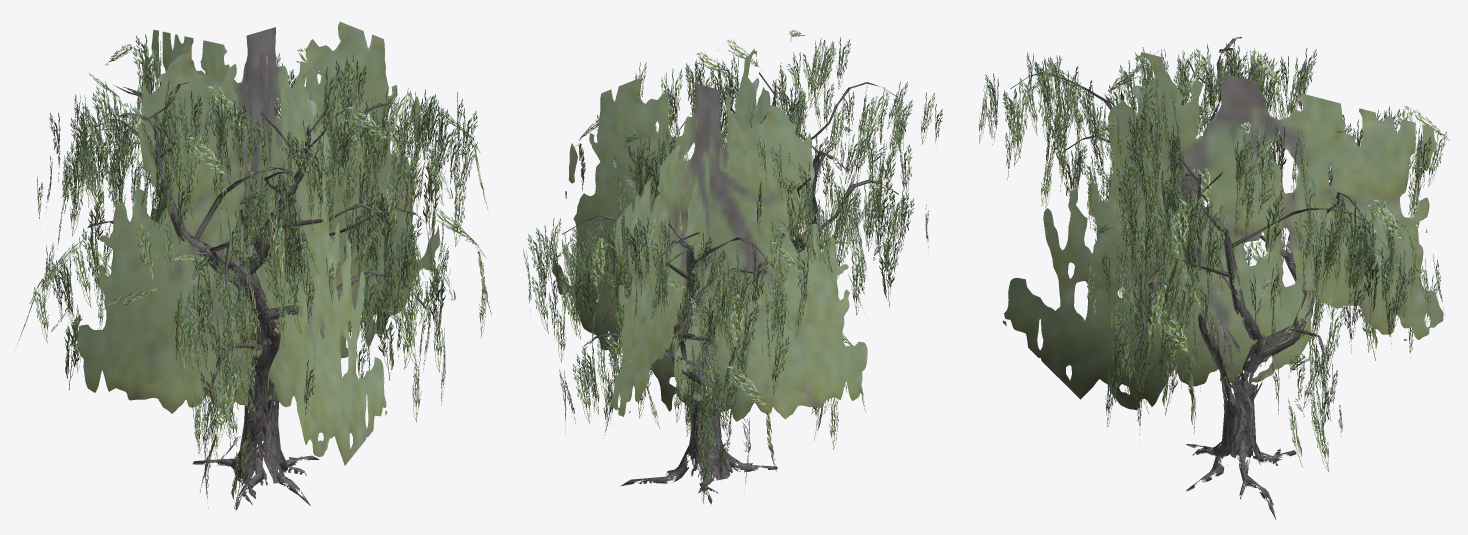
File: willowtree1.glb
3 renders of one model, left to right at view 1: azimuth 30°, elevation 25°; view 2: azimuth 150°, elevation 25°; view 3: azimuth 270°, elevation 25°, orthographic. The views are drawn at different scales.
Visible parts, largest first — view 1: WillowTree1; view 2: WillowTree1; view 3: WillowTree1.
Boxes of the visible parts, bbox=[...] form: WillowTree1: bbox=[17, 22, 491, 510]; WillowTree1: bbox=[523, 30, 942, 504]; WillowTree1: bbox=[978, 37, 1449, 519].
Size of the model in its own units: 16.31 by 19.69 by 19.18.
Materials: 3 (3 with a texture image).
